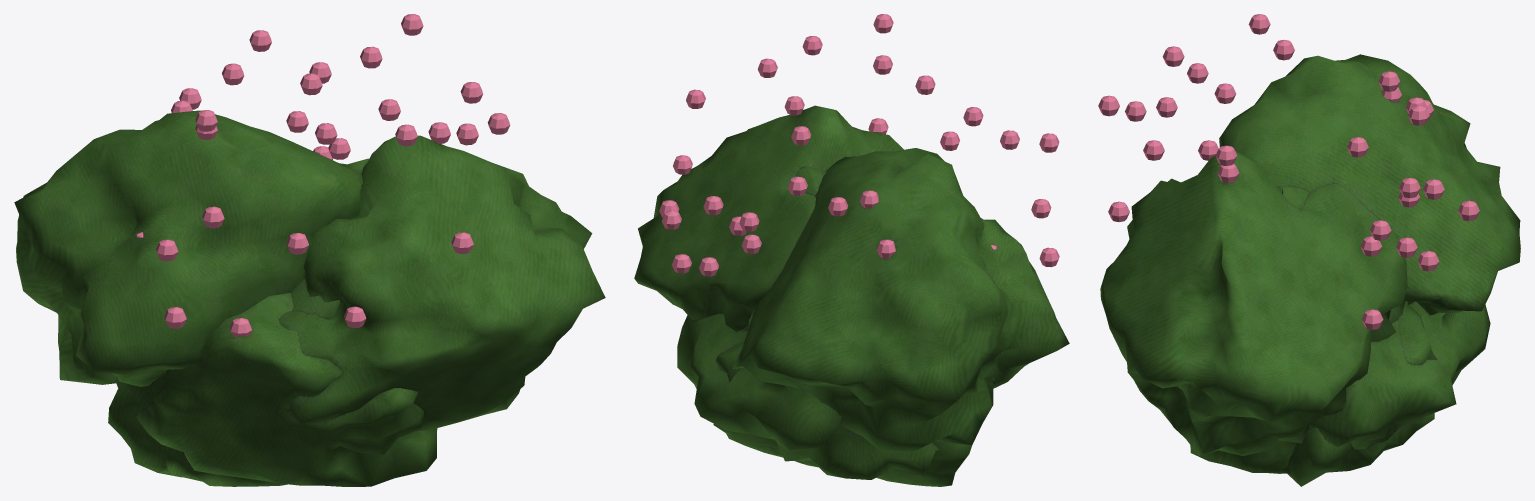
The model's file is flowering-pink.glb.
The picture shows the model from 3 angles, left to right: view 1: azimuth 30°, elevation 25°; view 2: azimuth 150°, elevation 25°; view 3: azimuth 270°, elevation 25°; orthographic projection. The views are drawn at different scales.
Parts seen in each view (by area): view 1: bush_leaves, blossom; view 2: bush_leaves, blossom; view 3: bush_leaves, blossom.
Boxes of the visible parts, left/top/right/bottom form: bush_leaves: left=14, top=110, right=605, bottom=486; blossom: left=136, top=14, right=510, bottom=337; bush_leaves: left=634, top=105, right=1069, bottom=486; blossom: left=659, top=14, right=1059, bottom=276; bush_leaves: left=1100, top=54, right=1520, bottom=486; blossom: left=1098, top=14, right=1479, bottom=329.
Bounding box in the file's own units: 0.9508 × 0.7634 × 0.7706.
3 materials, 2 textured.
